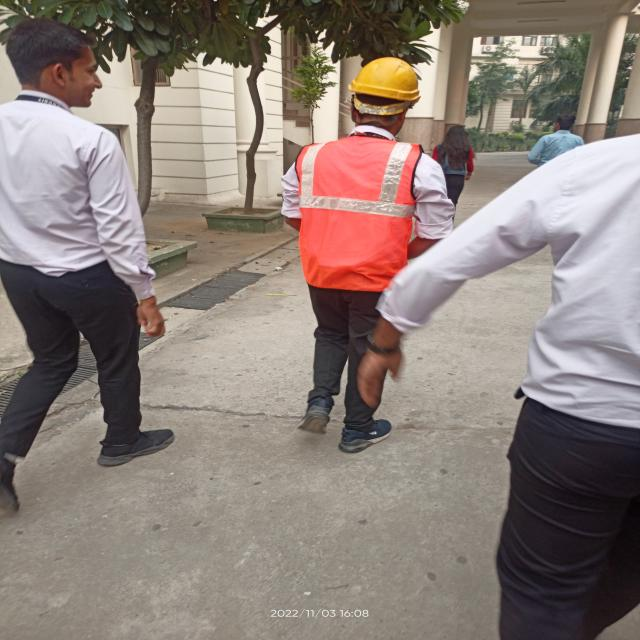safe: (277, 53, 458, 462)
unsafe: (5, 17, 186, 521), (432, 119, 475, 204)
